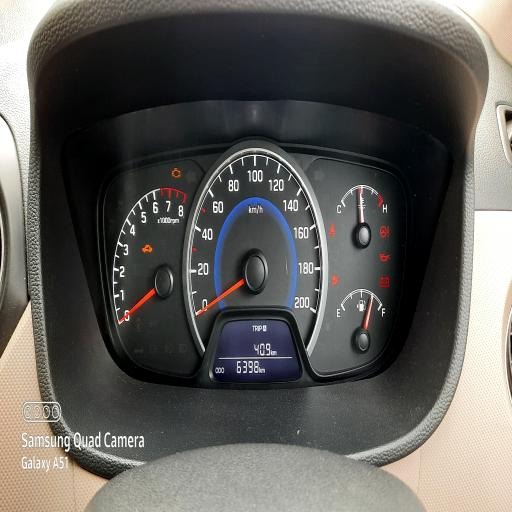belt: (328, 221, 336, 238)
check_engine: (172, 167, 181, 179)
oil: (379, 252, 390, 262)
tachometer: (112, 186, 186, 345)
vehicle_charging: (380, 275, 390, 289)
